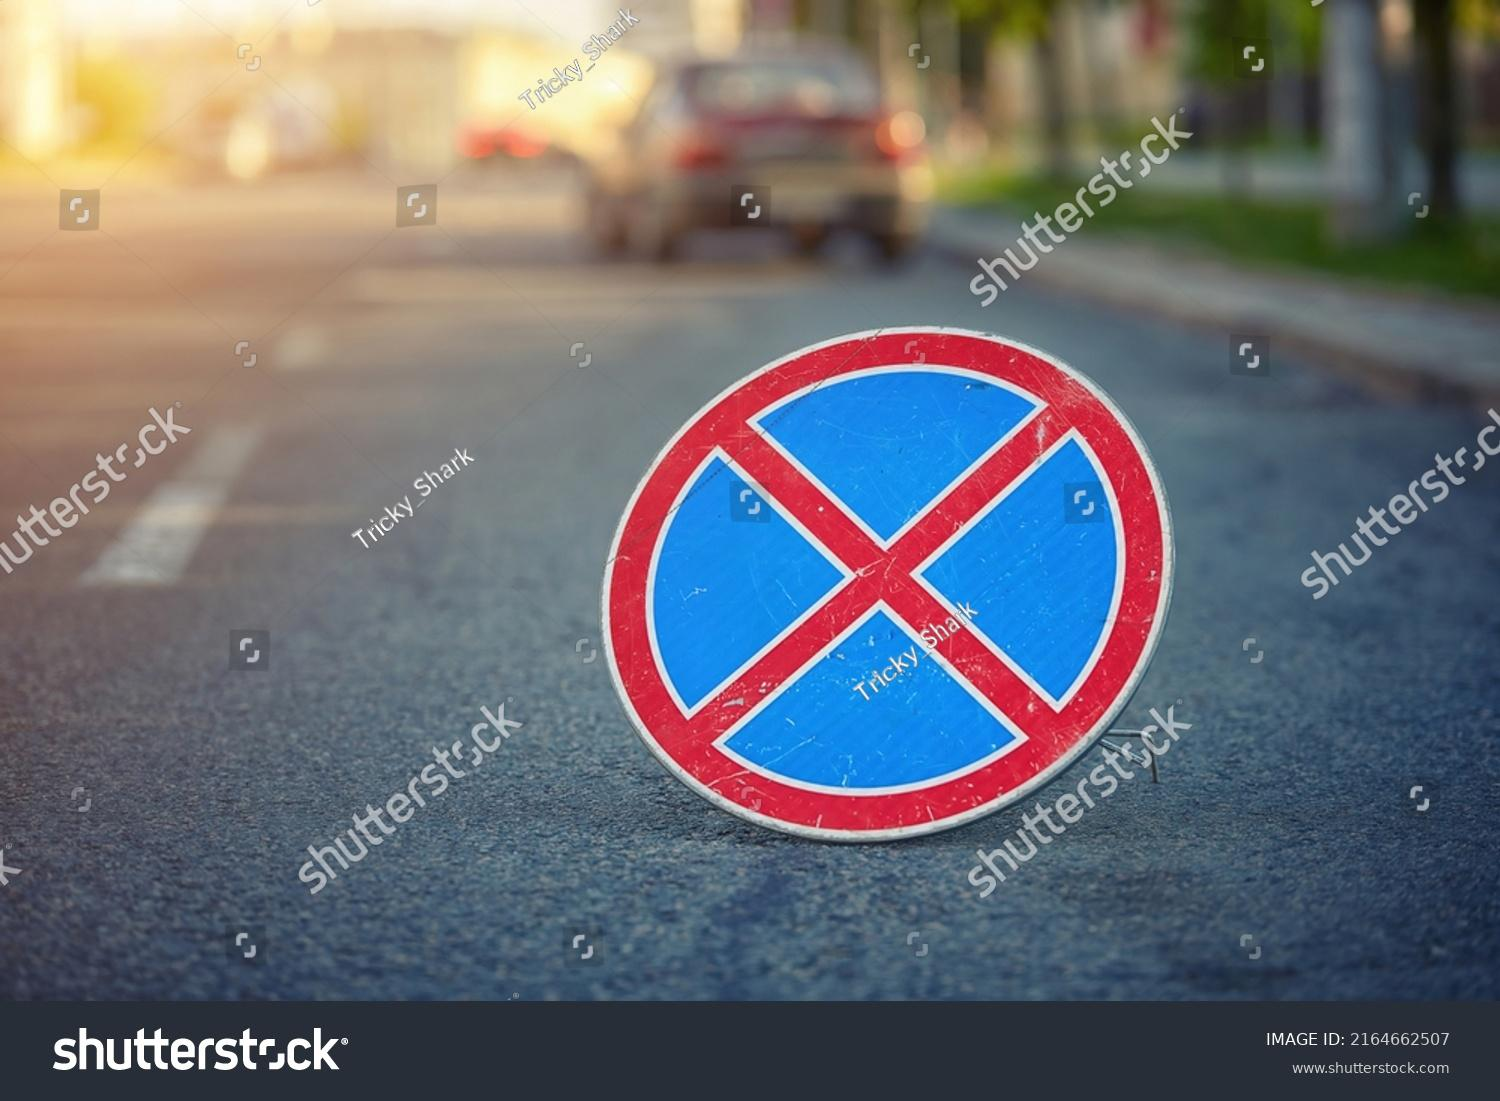No Stopping: (571, 244, 1208, 871)
